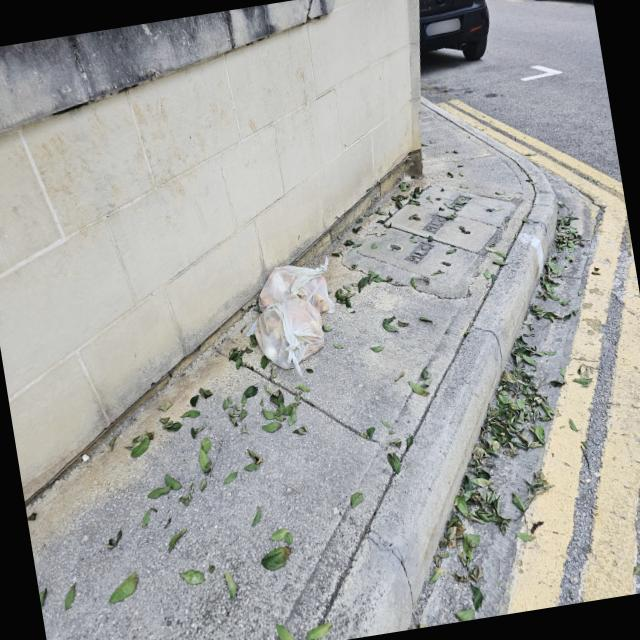white_bag: (242, 289, 332, 384), (255, 257, 342, 323)
